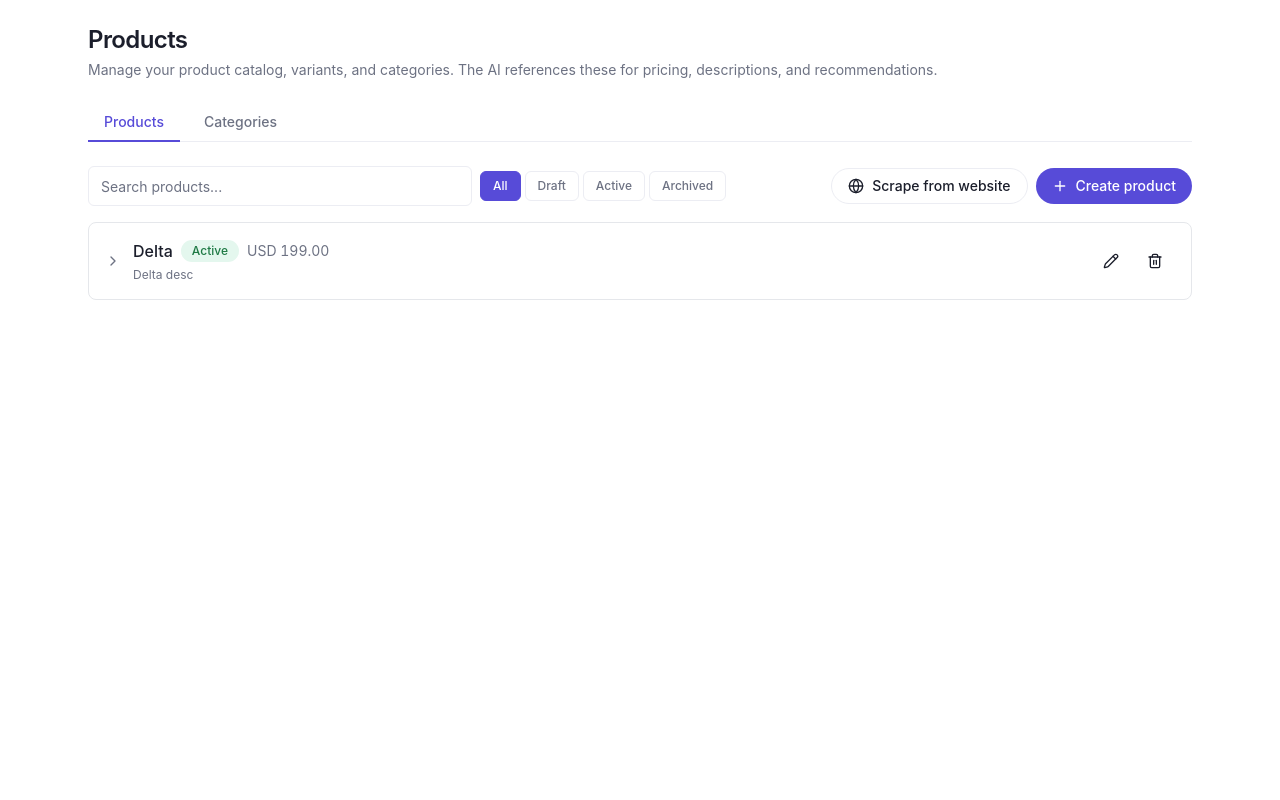
Scenario: KAN-1218 Scenario 4 — edit pre-fill › pre-fills edit form with the clicked product fields
Expected: the text "Delta" is shown, [133, 239, 173, 263]
Click the button named "edit delta" at (1111,261), box [1091, 241, 1131, 281]
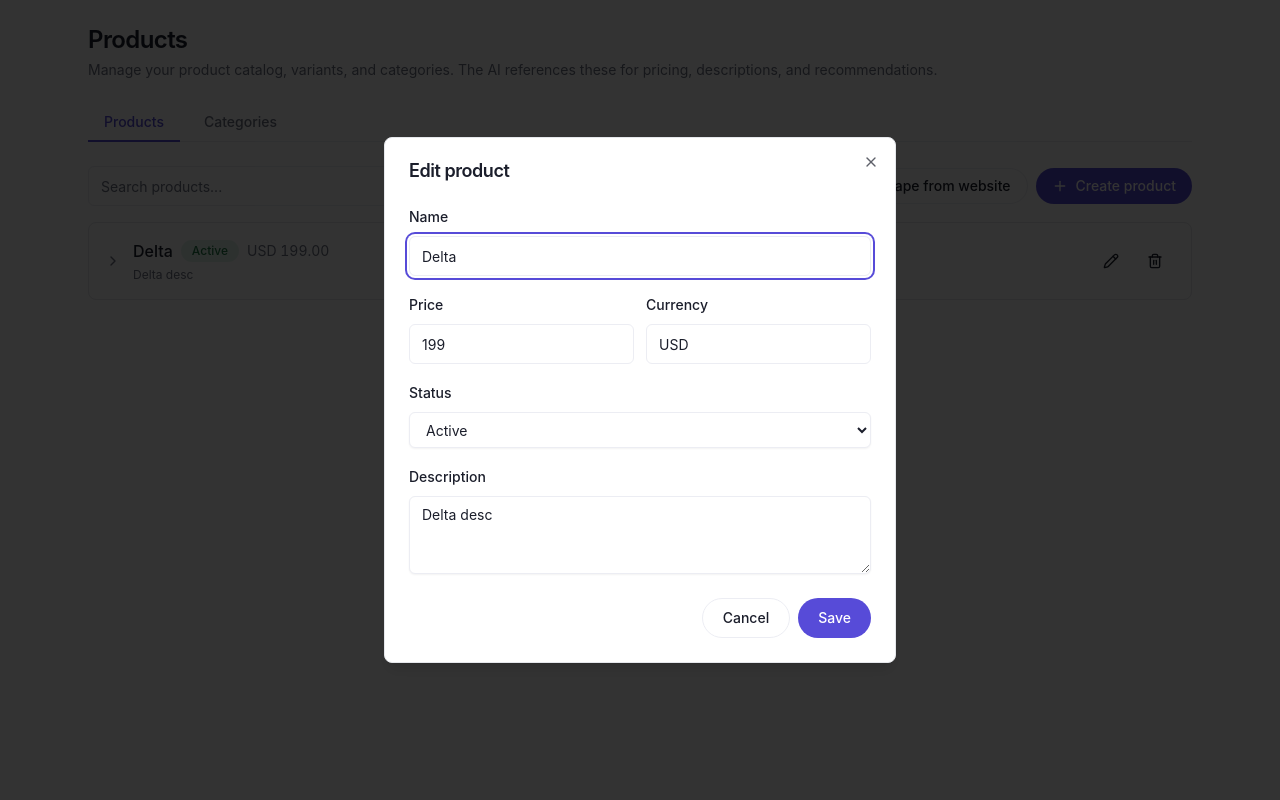
Now the field labelled "Name" holds "Delta", box [409, 236, 871, 276]
Now the text box labelled "Description" holds "Delta desc", box [409, 496, 871, 574]
Now the number field labelled "Price" holds "199", box [409, 324, 634, 364]
